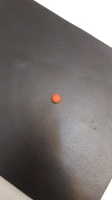Dolorex: (50, 93, 61, 105)
